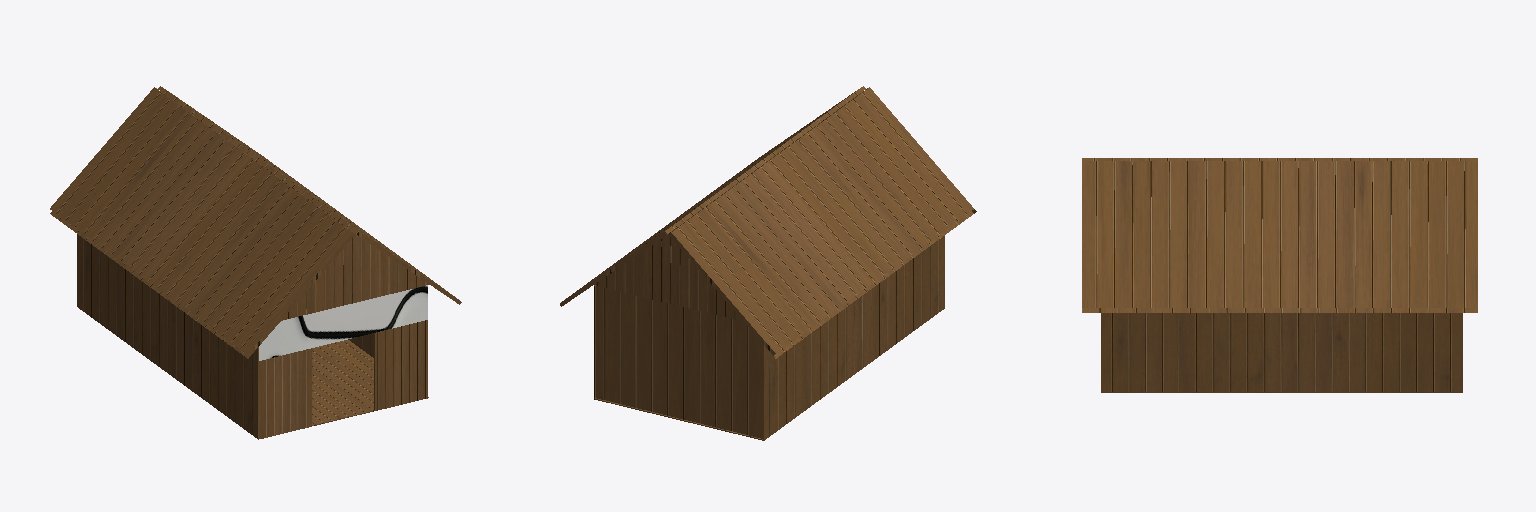
3 views of the same model, side by side, from view 1: azimuth 30°, elevation 25°; view 2: azimuth 150°, elevation 25°; view 3: azimuth 270°, elevation 25° (orthographic).
Visible parts, largest first — view 1: TechoI, ParedI, Rotulo, FrontonD, Piso, ParedDD, ParedDI, TechoD; view 2: TechoI, ParedT, ParedI, FrontonTT, TechoD; view 3: TechoD, ParedD, TechoI.
Part boxes in pixels (left/top/right/bottom): TechoI: left=50, top=87, right=355, bottom=358; ParedI: left=77, top=234, right=258, bottom=438; Rotulo: left=259, top=285, right=427, bottom=360; FrontonD: left=281, top=226, right=429, bottom=320; Piso: left=258, top=340, right=428, bottom=439; ParedDD: left=374, top=320, right=427, bottom=410; ParedDI: left=259, top=348, right=311, bottom=438; TechoD: left=158, top=86, right=461, bottom=304; TechoI: left=668, top=87, right=976, bottom=358; ParedT: left=596, top=286, right=762, bottom=438; ParedI: left=763, top=236, right=944, bottom=440; FrontonTT: left=594, top=226, right=742, bottom=321; TechoD: left=560, top=86, right=865, bottom=306; TechoD: left=1082, top=161, right=1477, bottom=312; ParedD: left=1101, top=313, right=1462, bottom=391; TechoI: left=1082, top=158, right=1477, bottom=160.
Size of the model in its own units: 24.87 by 20.96 by 38.94.
Materials: 2 (2 with a texture image).